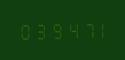four: (63, 19, 77, 39)
nine: (48, 20, 62, 40)
one: (93, 19, 107, 39)
seven: (78, 19, 92, 39)
three: (32, 20, 46, 40)
zero: (17, 20, 31, 40)
